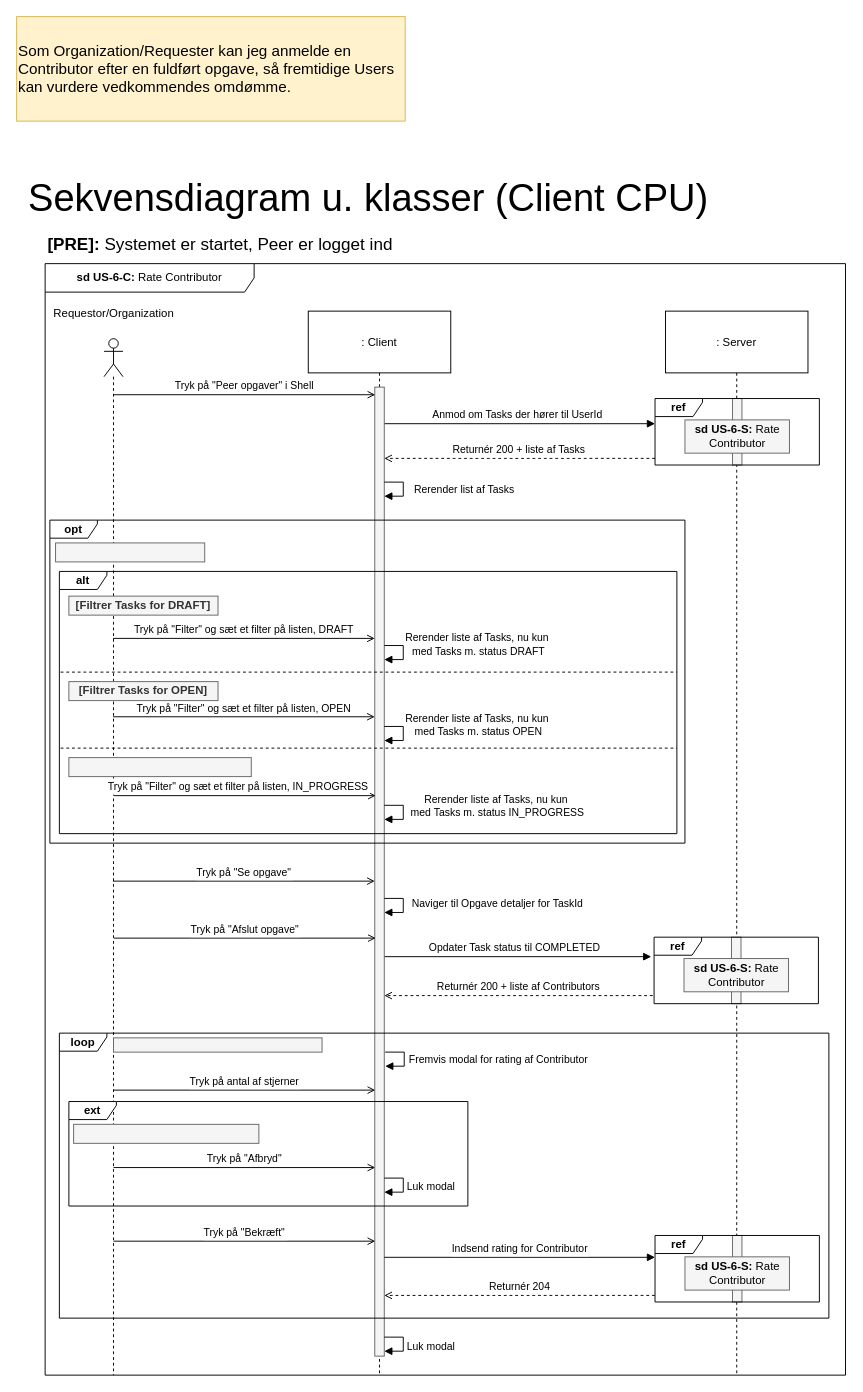
Image size: 863x1392. Some labels were removed from this diagram. Each missing label, with the centre of its shape:
[ Filtrer Tasks ]: point (130, 552)
[ Filtrer Tasks for IN_PROGRESS ]: point (159, 767)
[ User trykker "Afbryd" ]: point (166, 1133)
[FOR contributor IN list_of_participants]: point (217, 1044)
